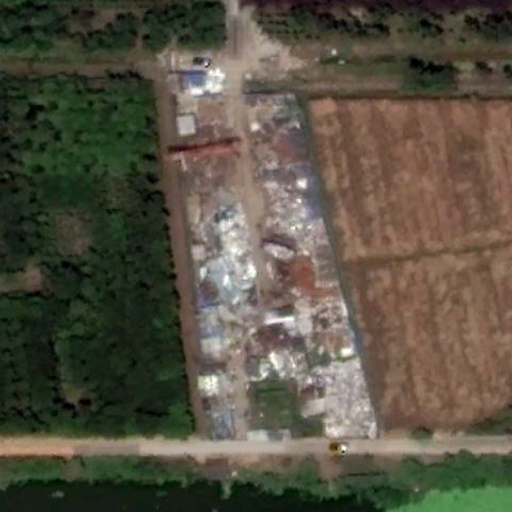msw: (202, 180, 378, 439)
